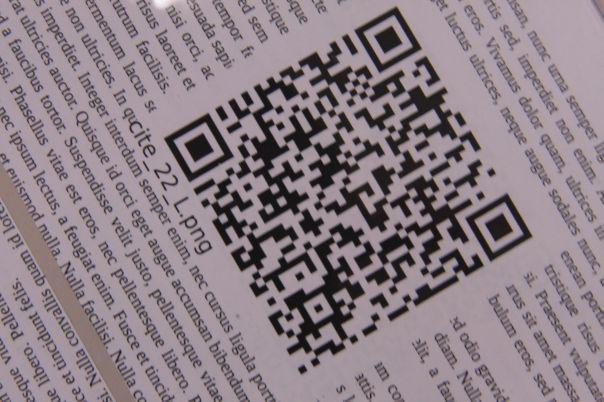Finder pattern: (163, 111, 235, 184), (353, 6, 423, 72), (469, 194, 536, 260)
